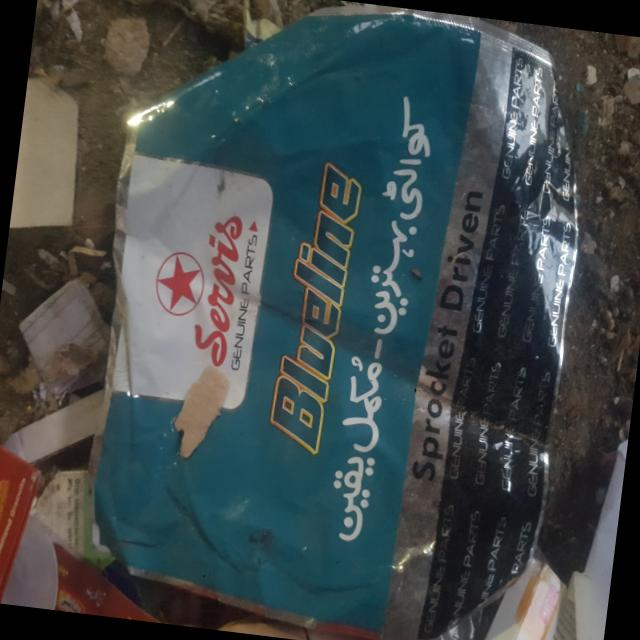electronic: (59, 0, 606, 640), (0, 433, 45, 606)
